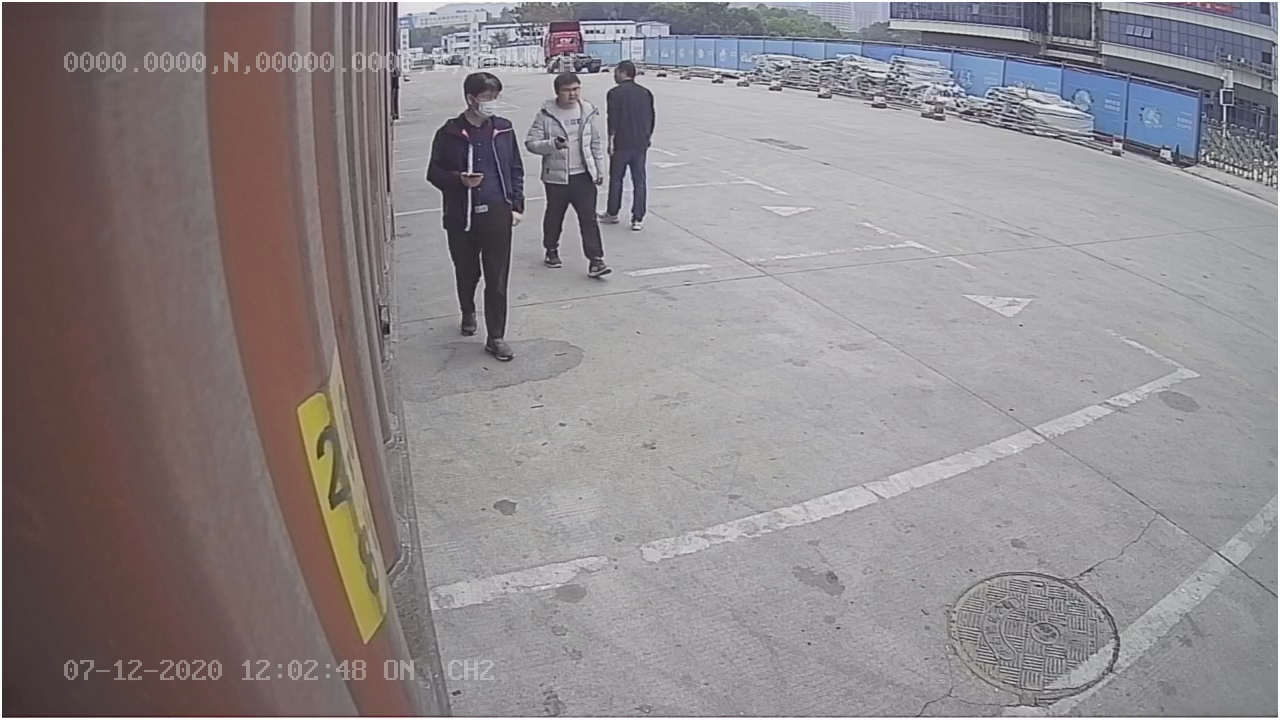person: (427, 67, 530, 364)
